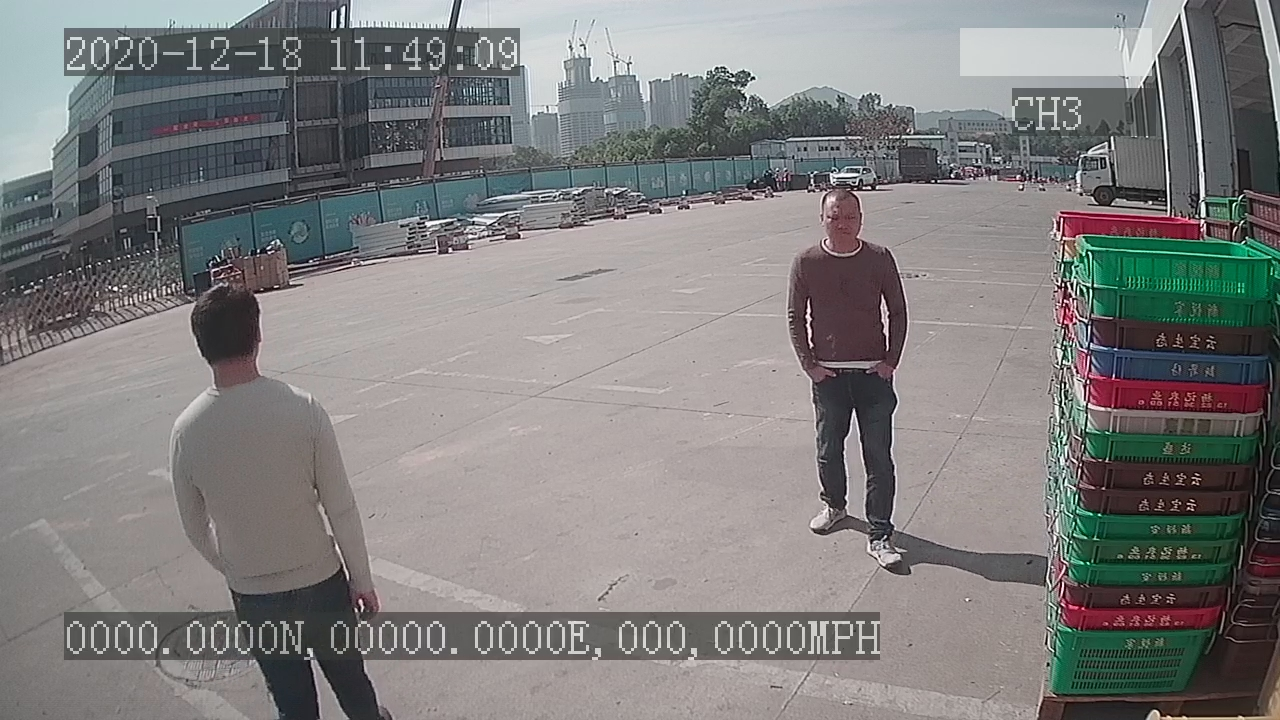person: (783, 183, 911, 574)
